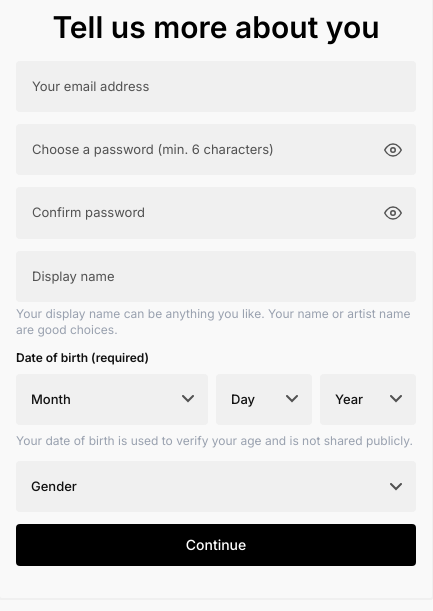
Test: RegisterationForm › shows service error when registration fails
Type "listener@decibel.test" into the field named "email".
click(216, 87); type("listener@decibel.test")  # box [16, 61, 416, 112]
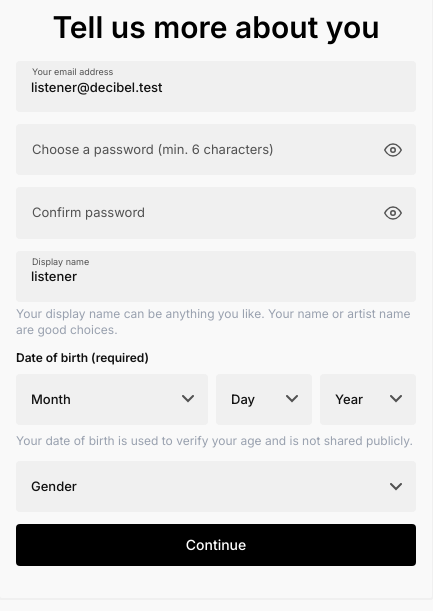
Result: the field named "displayName" holds "listener" at [16, 251, 416, 302]
Type "Password1" into the password field labelled "Choose a password (min. 6 characters)".
click(216, 150); type("Password1")  # box [16, 124, 416, 175]
Type "Password1" into the password field labelled "Confirm password".
click(216, 213); type("Password1")  # box [16, 187, 416, 239]
Select "January" in the 1st dropdown named "month" at [112, 399], box [16, 374, 208, 425]
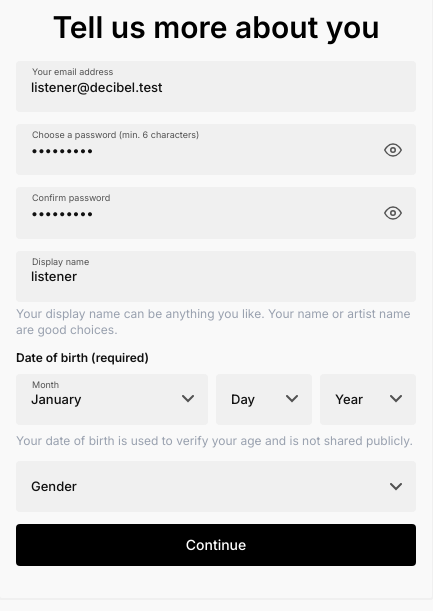
Select "1" in the 1st dropdown named "day" at [264, 399], box [216, 374, 312, 425]
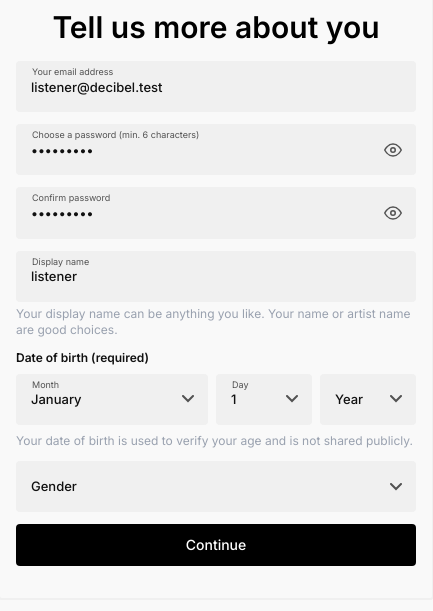
Select "2000" in the dropdown named "year" next to "Day" at [368, 399], box [320, 374, 416, 425]
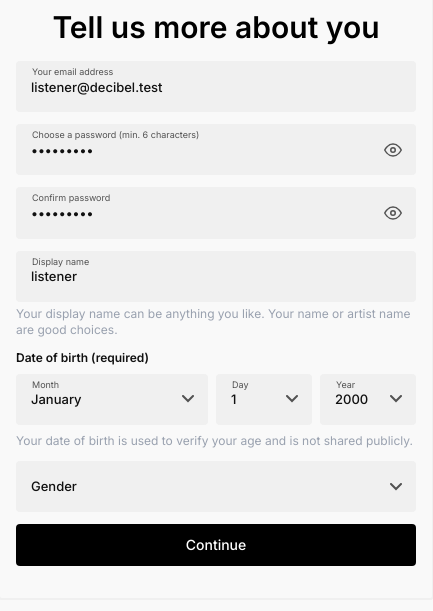
Select "Female" in the dropdown named "gender" at [216, 486], box [16, 461, 416, 512]
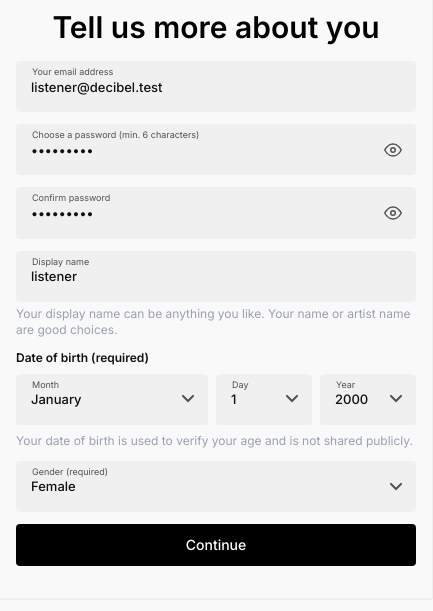
Click the button "Continue".
click(216, 545)  # box [16, 524, 416, 566]
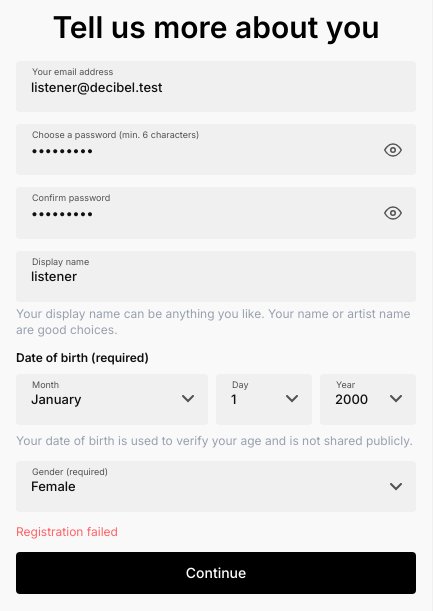
Result: the text "Registration failed" is shown at [16, 524, 118, 539]
